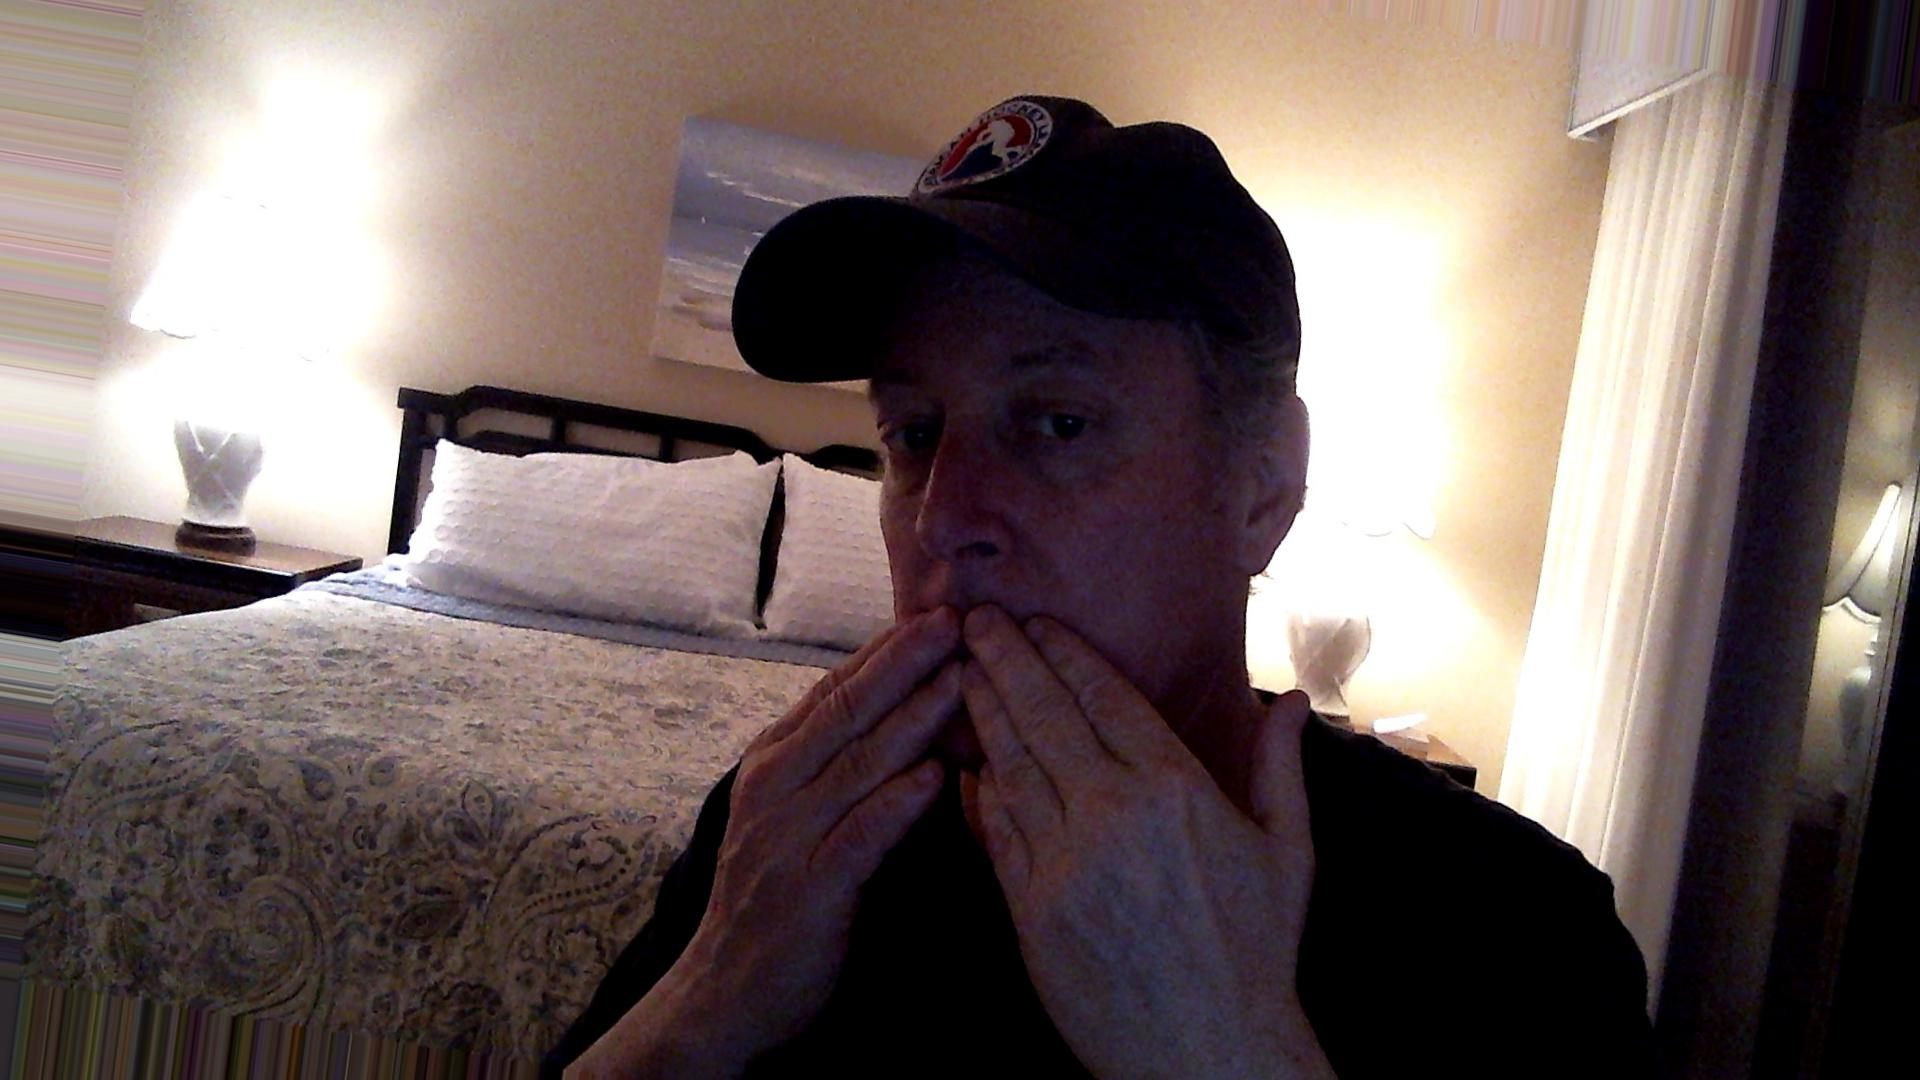Thank You: (663, 584, 1373, 990)
